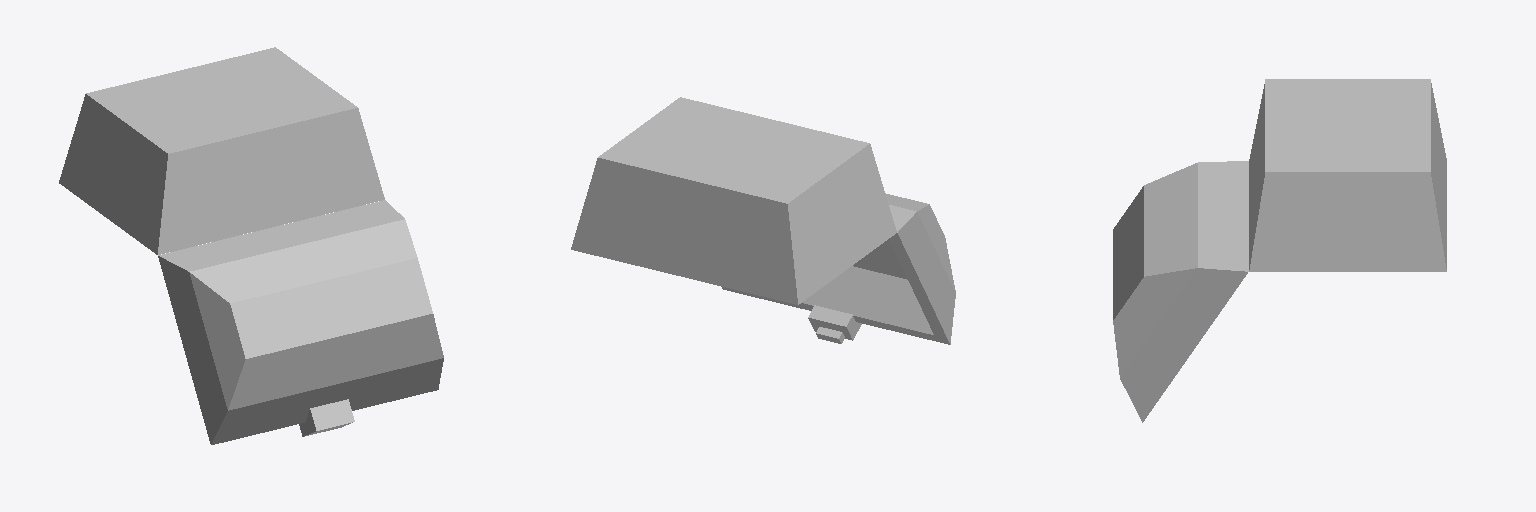
The model's file is cofre-riggin_000027.obj.
3 renders of one model, left to right at view 1: azimuth 30°, elevation 25°; view 2: azimuth 150°, elevation 25°; view 3: azimuth 270°, elevation 25°, orthographic.
Parts seen in each view (by area): view 1: Cube; view 2: Cube; view 3: Cube.
Part boxes in pixels (x1,y1,x2,y2): Cube: (59, 47, 443, 444); Cube: (571, 97, 955, 344); Cube: (1113, 79, 1446, 422).
Bounding box in the file's own units: 33.92 × 37.16 × 43.11.